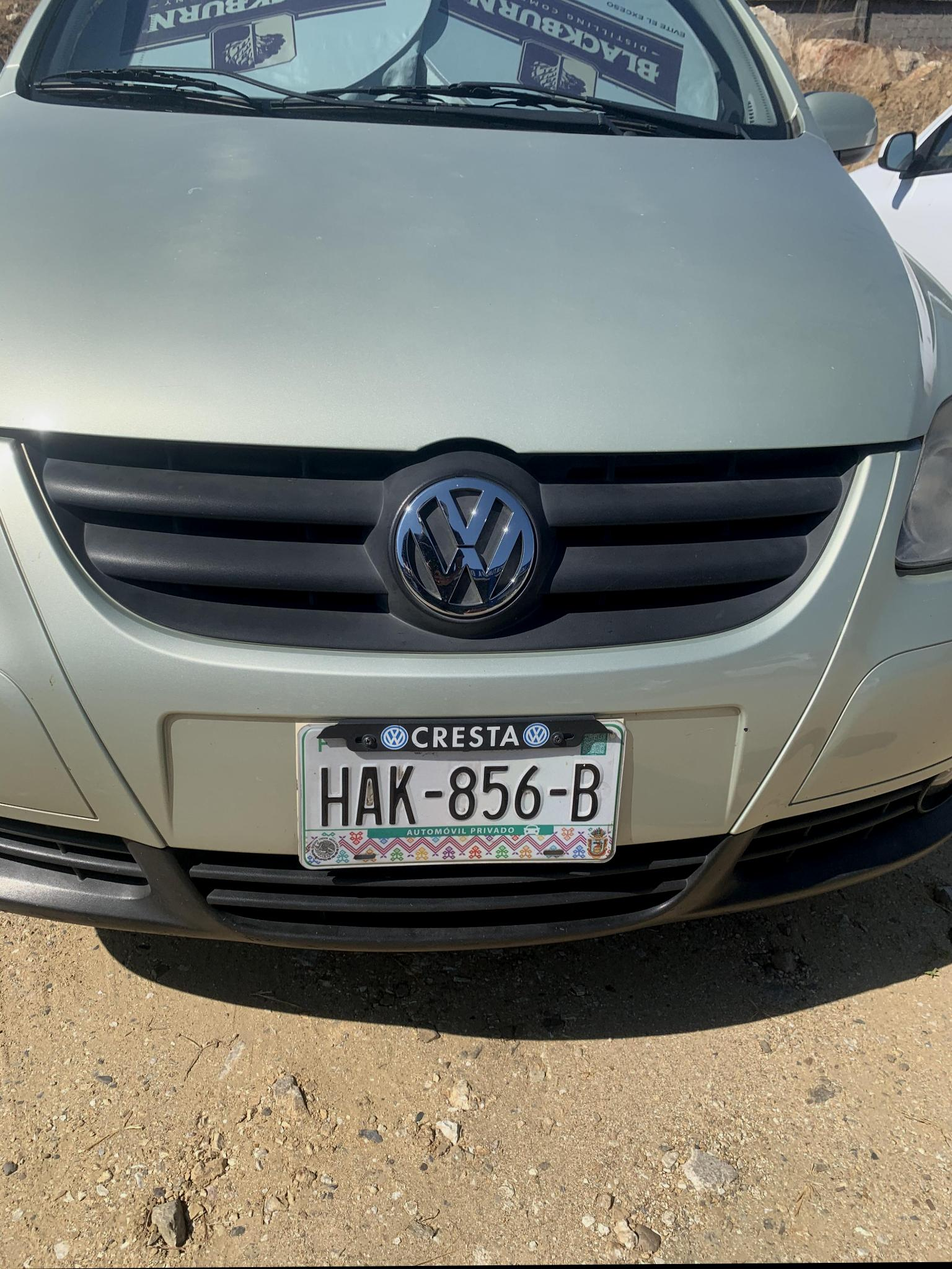License_Plate: (260, 703, 658, 889)
